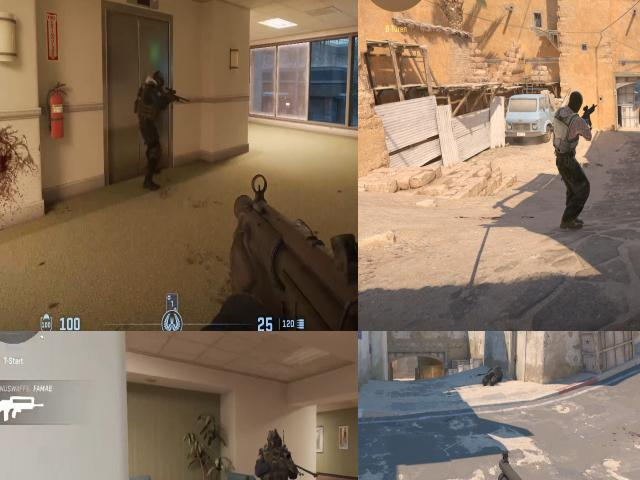CT: (138, 61, 168, 136), (256, 426, 295, 480)
CT-Head: (264, 428, 286, 456), (146, 69, 164, 86)
Dead: (479, 364, 506, 388)
T: (554, 90, 590, 218)
T-Head: (566, 90, 585, 118)
